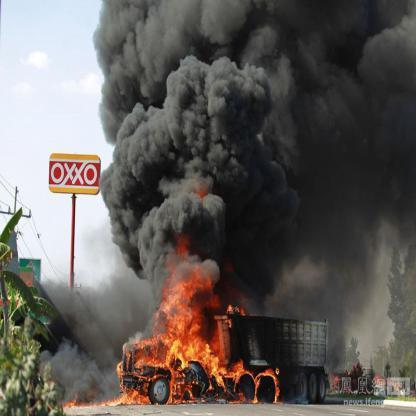fire: (112, 329, 286, 407), (146, 233, 254, 330), (326, 364, 390, 390), (60, 389, 112, 414)
smoke: (91, 5, 415, 231), (256, 232, 409, 321), (41, 271, 113, 382)
